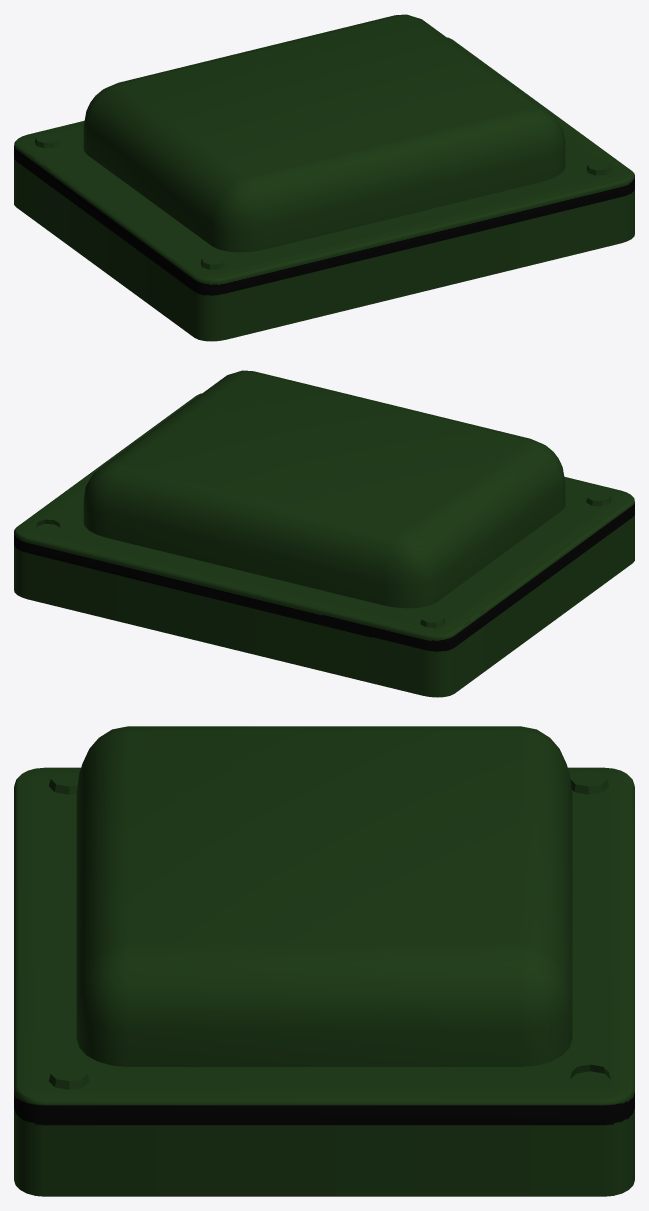
The model's file is колодка стартового двигателя.fbx.
3 views of the same model, one above another, from view 1: azimuth 30°, elevation 25°; view 2: azimuth 150°, elevation 25°; view 3: azimuth 270°, elevation 25° (orthographic). The views are drawn at different scales.
Parts seen in each view (by area): view 1: kolodka_P; view 2: kolodka_P; view 3: kolodka_P.
Part boxes in pixels (x1,y1,x2,y2): kolodka_P: (14, 14, 634, 341); kolodka_P: (14, 370, 634, 697); kolodka_P: (14, 726, 634, 1196).
Bounding box in the file's own units: 0.6 × 0.16 × 0.47.
Materials: 1 (1 with a texture image).
